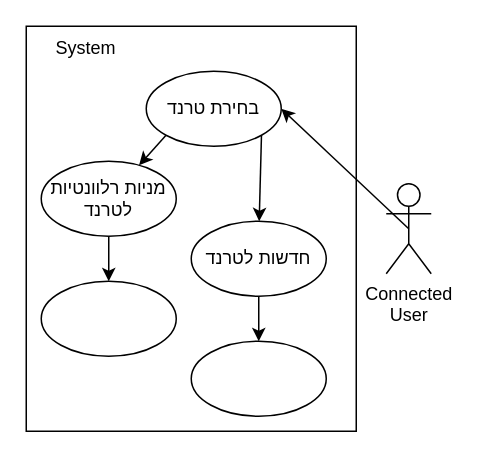
This 479x458 diagram has some shape labels left out. The shapes that lost their labels are listed below. From the top down, each one's centre as x and y in pixels, then its label:
At [108,318]: "צפייה במנייה הרלוונטית".
At [258,378]: "קישור לכתבה".
